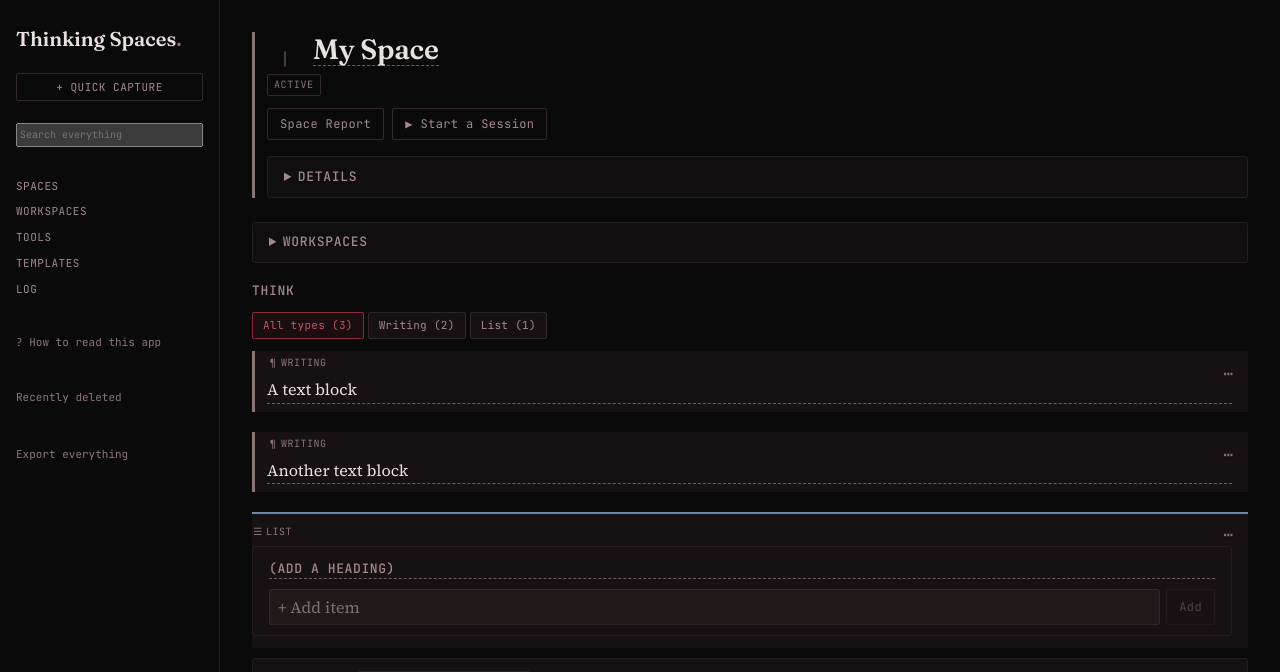
Test: SpacePage: block type filter › filters blocks by type once some type holds more than one, each tab showing its count
Expected: the text "A text block" is shown, [267,377,1232,404]
Expected: the text "All types (3)" is shown, [252,312,364,339]
What coordinates should you click on to do the following:
click the text with class "category-filter-tab" showing "List (1)"
I would click on:
 (508, 325)
Its box is [470,312,547,339].
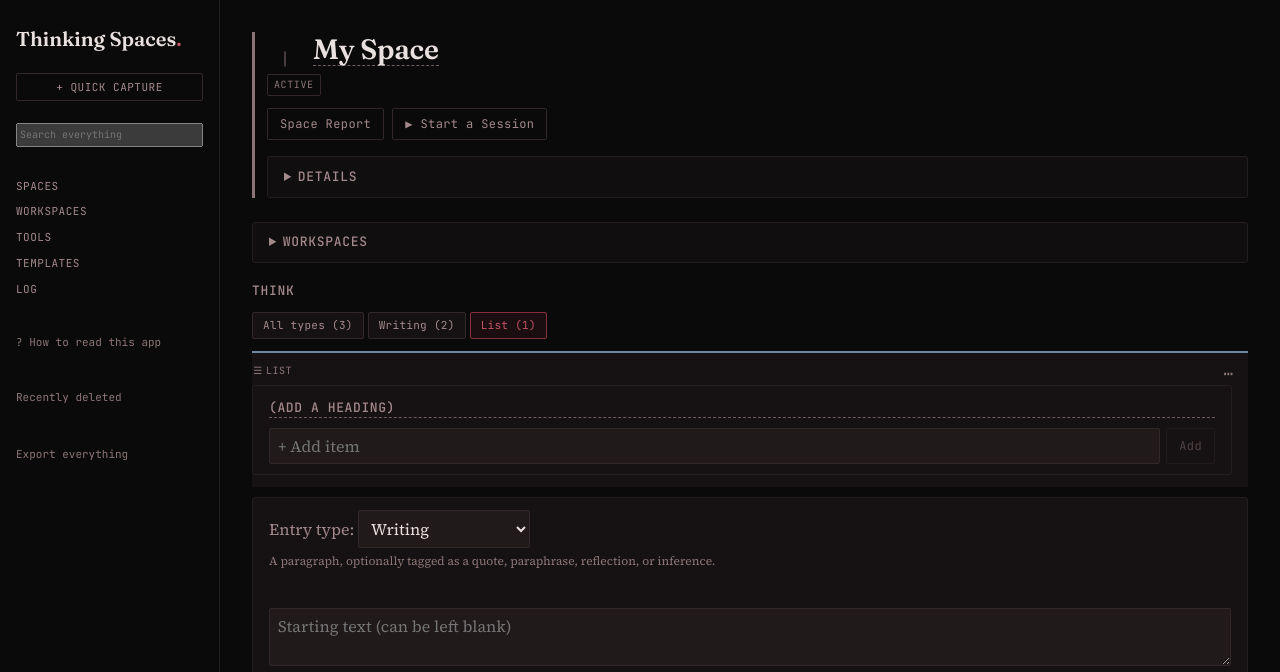
Now the text "A text block" is gone
